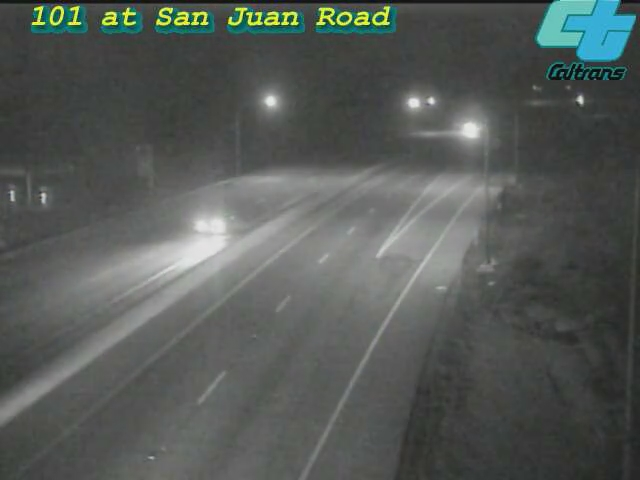vehicle: (183, 178, 263, 258), (449, 105, 499, 155)
